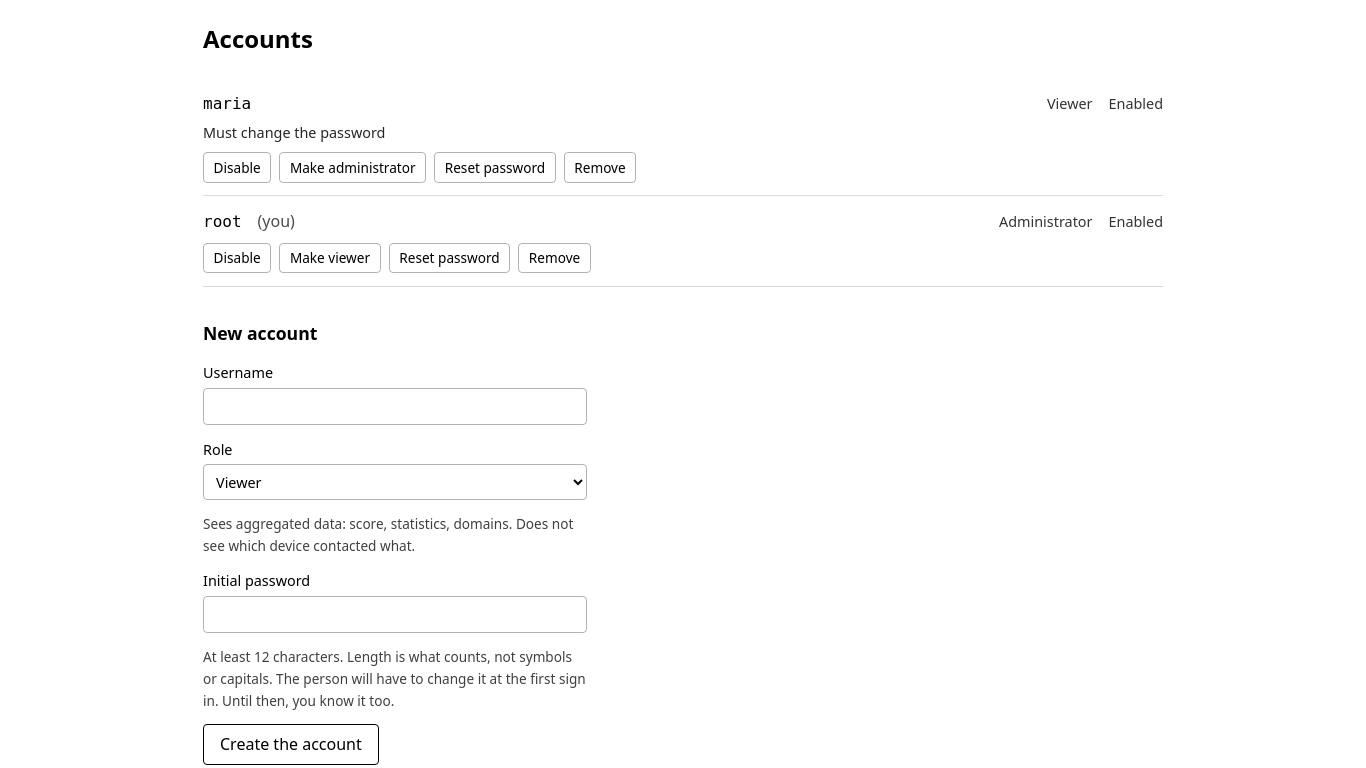
Accounts › shows the reason the engine refused
The width and height of the screenshot is (1366, 768).
Click the button "Disable" below "root" at (237, 258), box [203, 243, 271, 273]
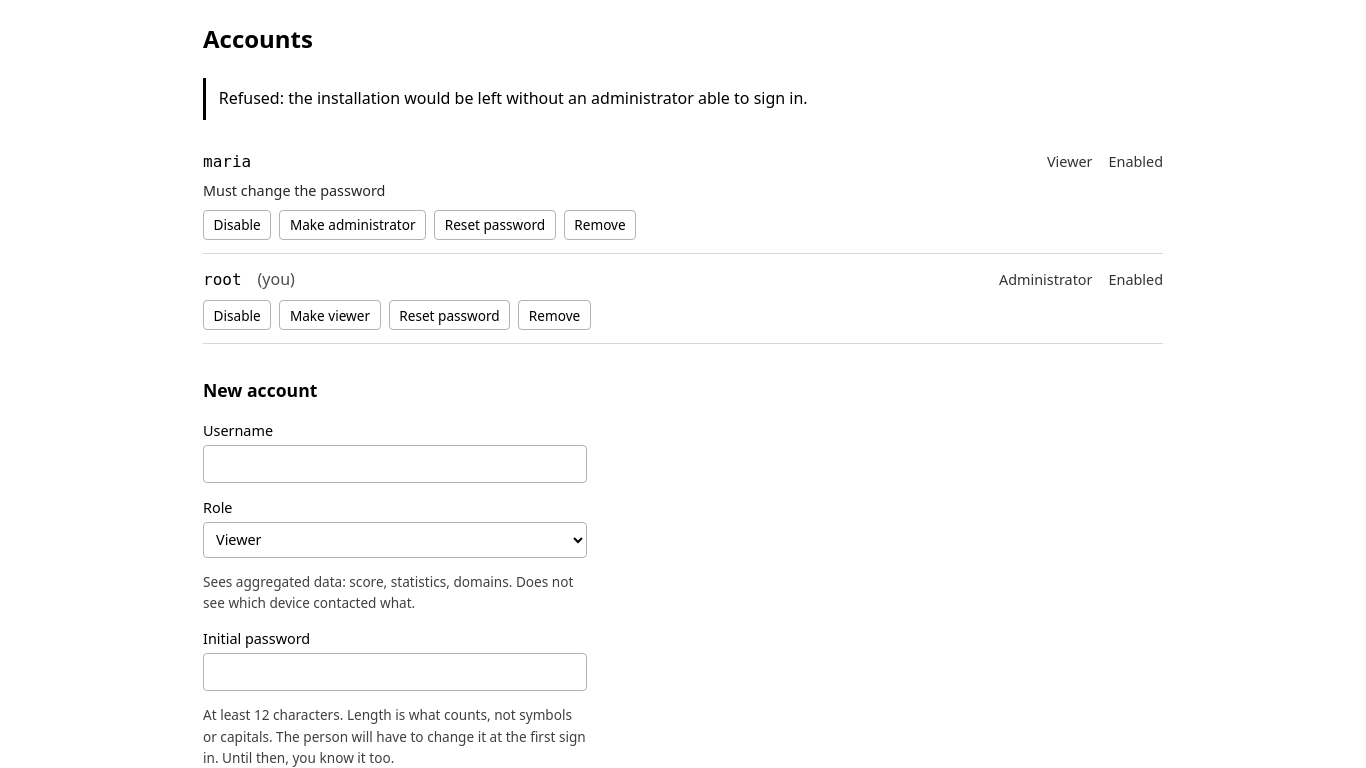
Check: the message shows "Refused: the installation would be left without an administrator able to sign in.", box [219, 87, 808, 109]
